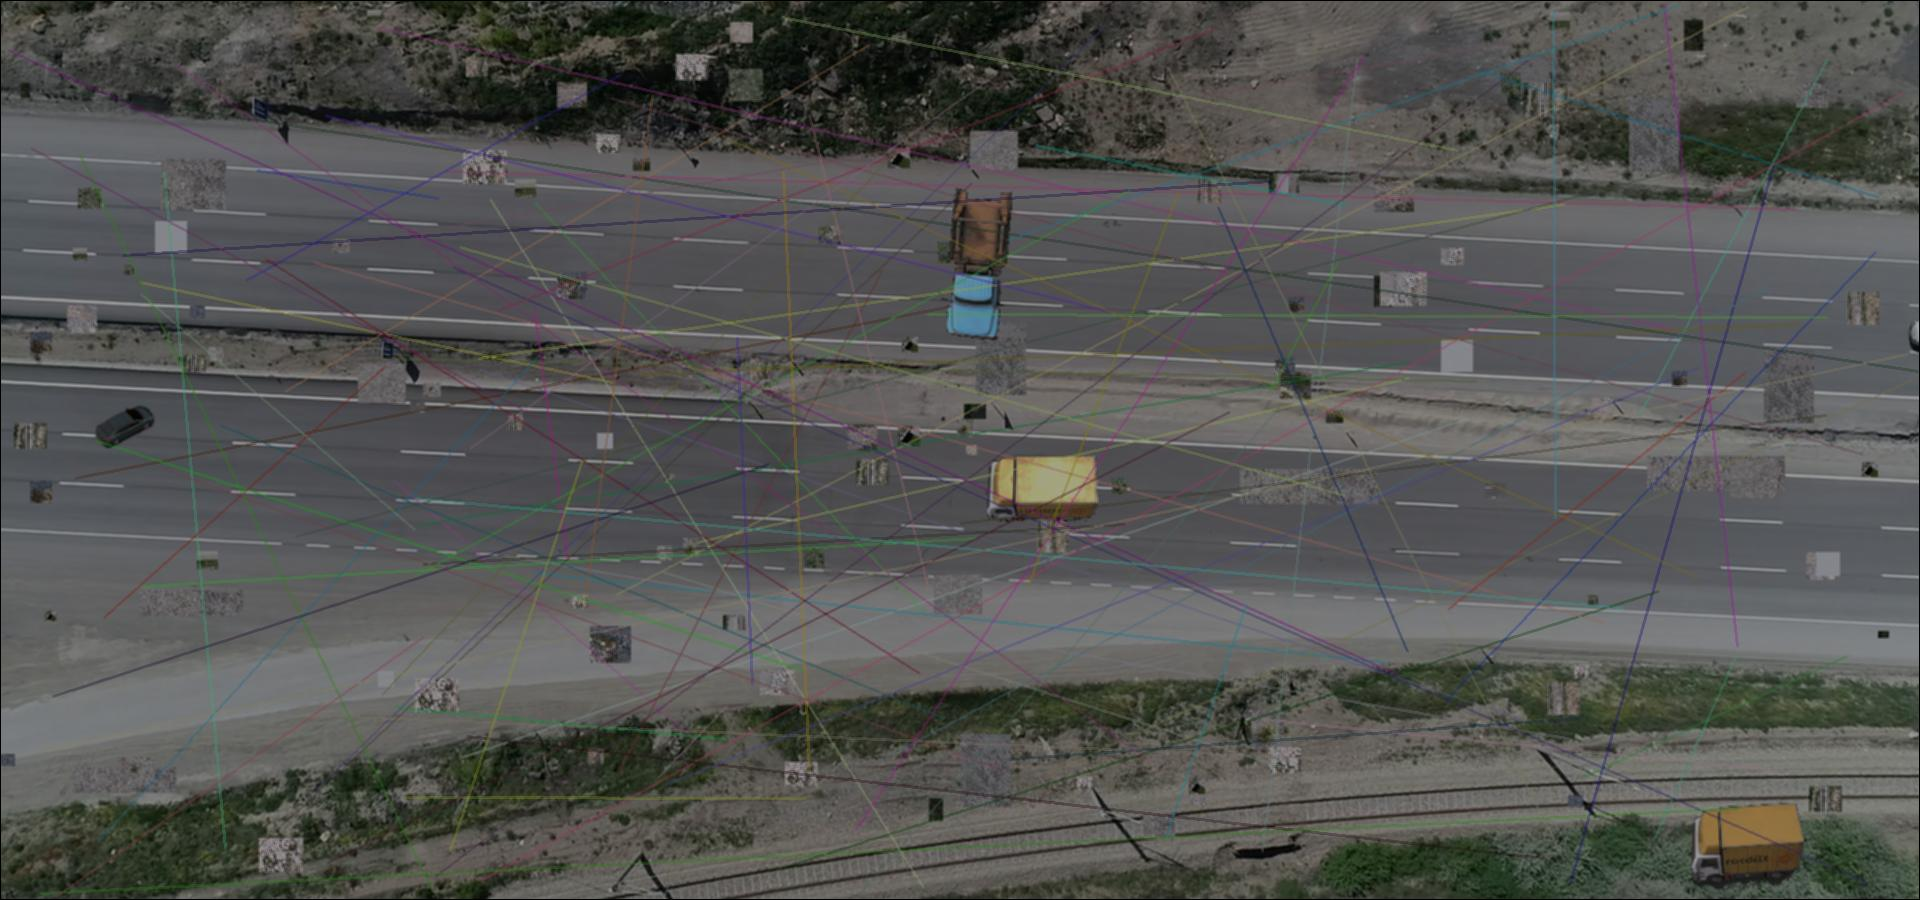arac: (940, 186, 1016, 342), (1689, 803, 1804, 889), (986, 454, 1100, 527), (94, 404, 156, 448)
